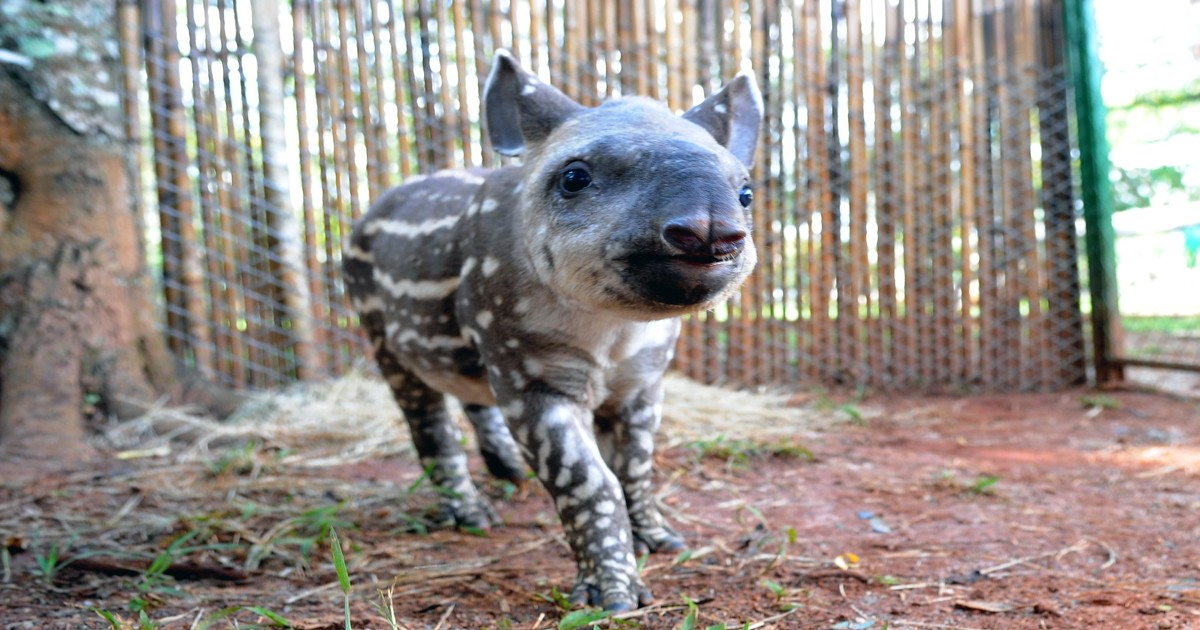Anta: (332, 41, 772, 618)
